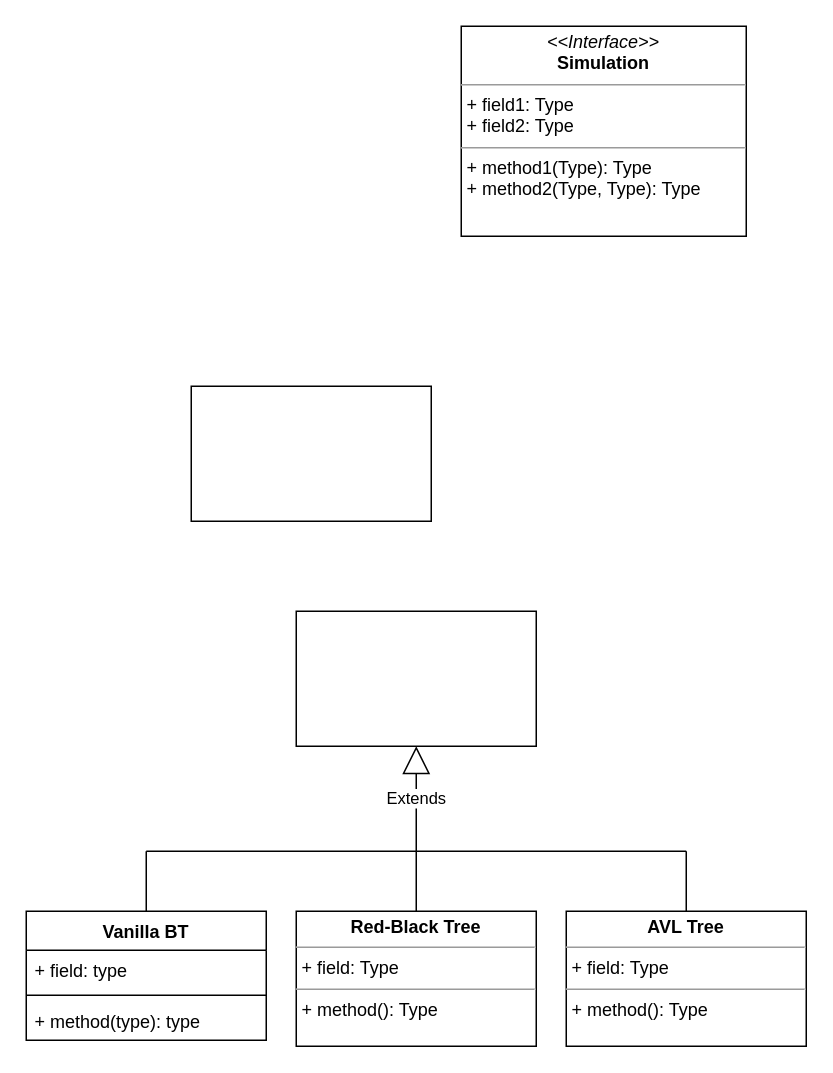
Some shapes in this 833 by 1073 pixel diagram are drawn without their labels. The centre of each missing label's shape, as x and y in pixels:
"Binary Tree + field: Type + method(): Type" goes at [415,678].
"Tree + field: Type + method(): Type" goes at [310,453].
